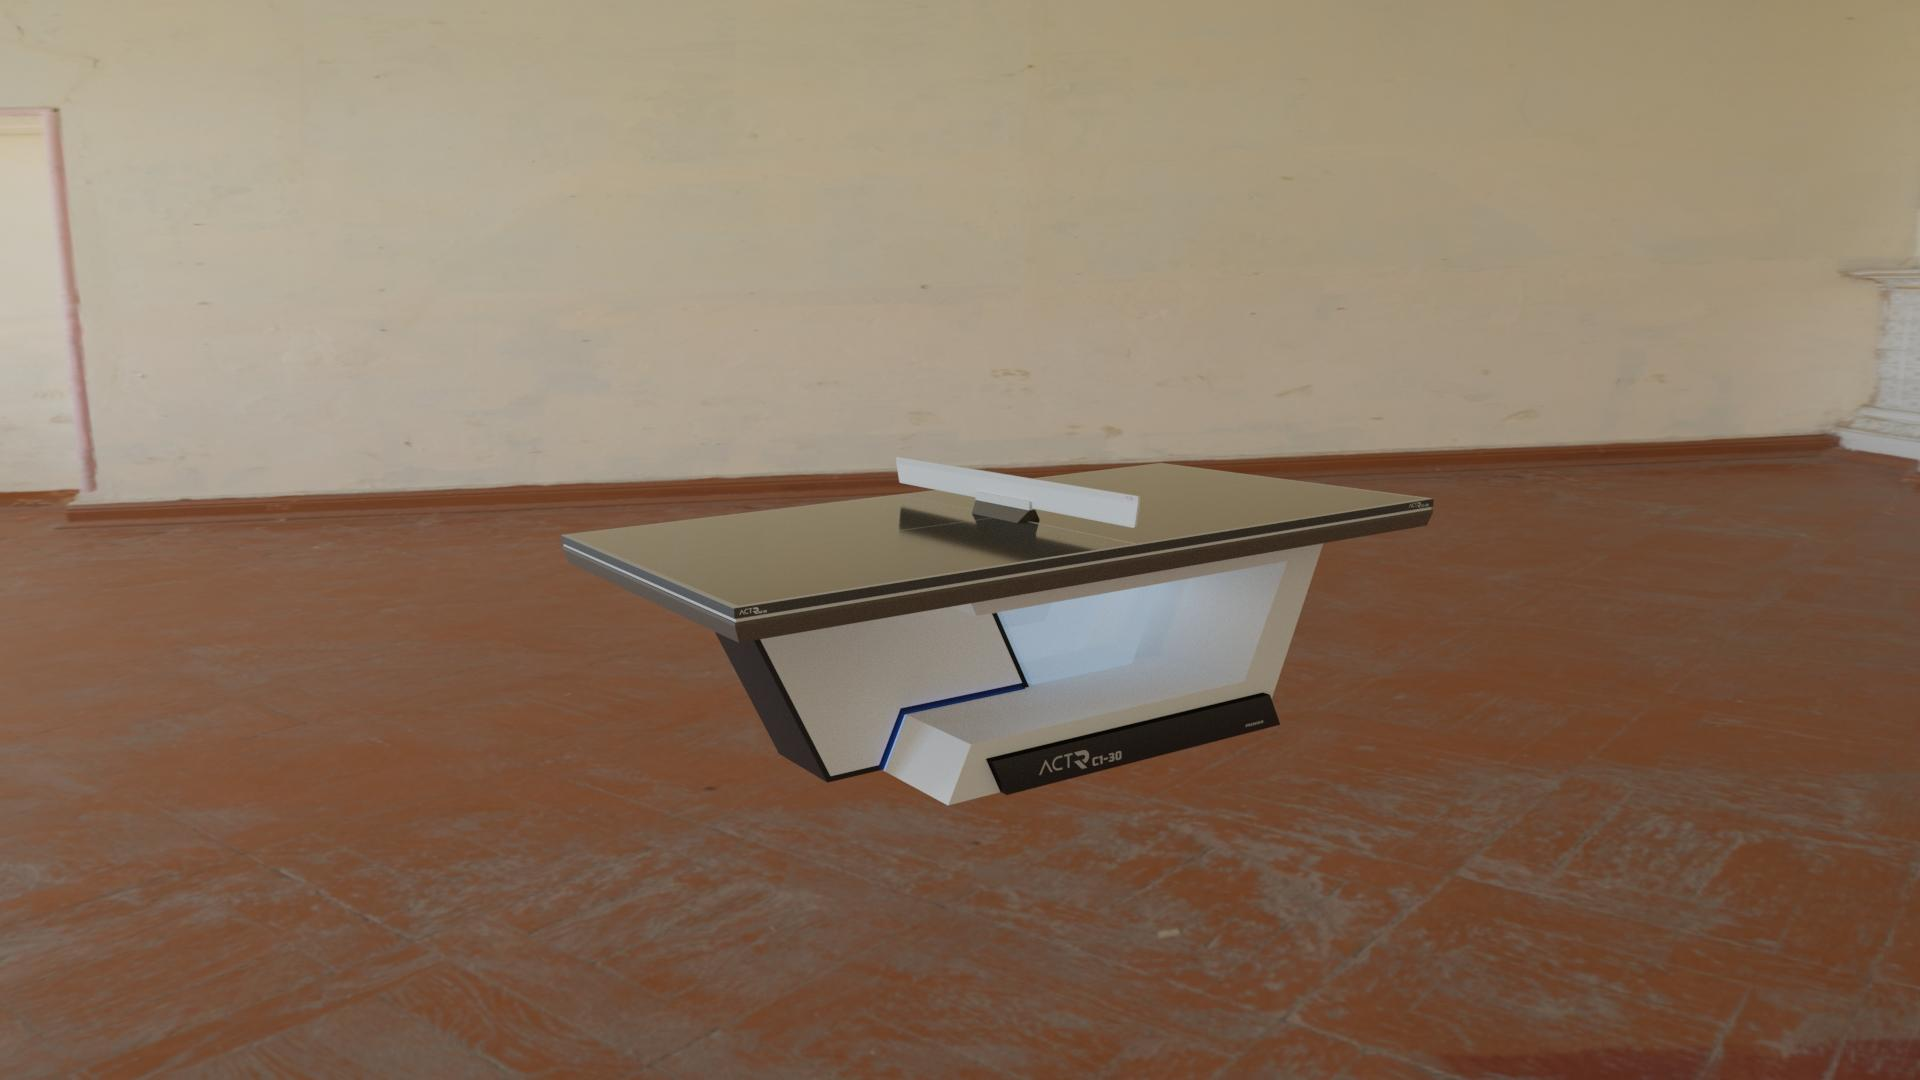table: (568, 464, 1425, 605)
